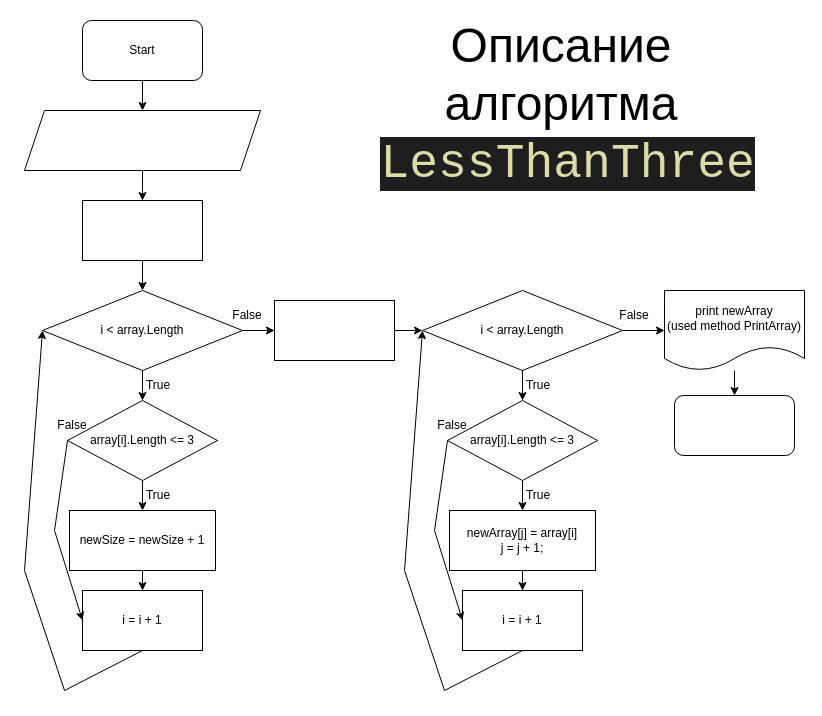
The diagram is 822 pixels wide and 716 high, and some of its shapes have lost their labels. Here are the shapes that lost their labels. From the top down, the box of each, then its label:
(24, 110, 260, 170): size array[size] (used method FillArray)
(82, 200, 202, 260): newSize = 0 i = 0
(274, 300, 394, 360): newArray[newSize] j = 0 i = 0
(674, 394, 794, 456): Finish
